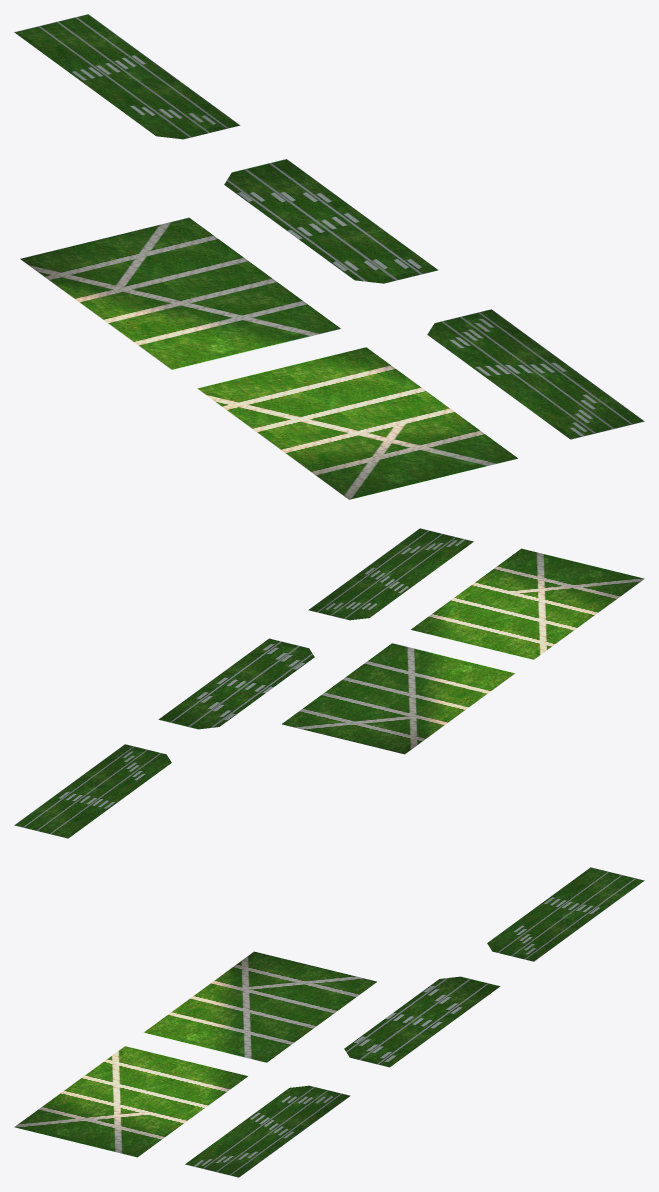
File: green04.obj
The picture shows the model from 3 angles, top to bottom: view 1: azimuth 30°, elevation 25°; view 2: azimuth 150°, elevation 25°; view 3: azimuth 330°, elevation 25°; orthographic projection. The views are drawn at different scales.
Parts seen in each view (by area): view 1: green04; view 2: green04; view 3: green04.
Part boxes in pixels (x1,y1,x2,y2): green04: [14, 14, 644, 499]; green04: [14, 528, 644, 838]; green04: [14, 867, 644, 1177].
Bounding box in the file's own units: 34.09 × 0 × 110.
Materials: 1 (1 with a texture image).
